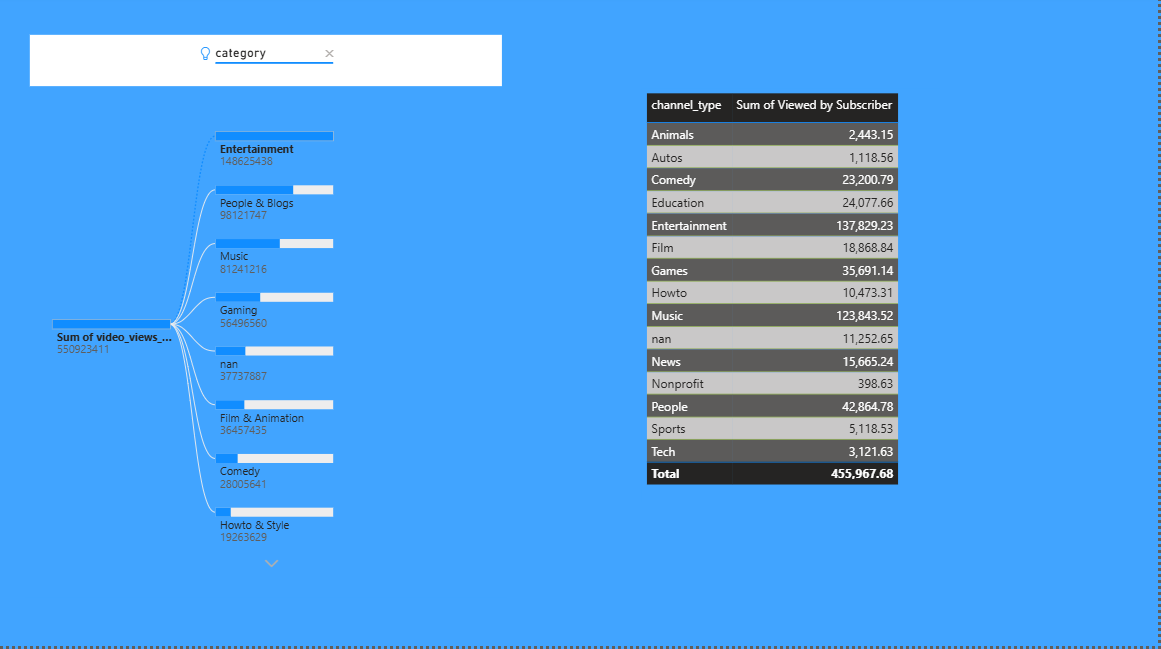

The page's visual inventory and layout, read from the dashboard file:
{"tool":"powerbi","page":{"name":"DETAILED ANALYSIS","canvas":[1280,720],"ordinal":1},"visuals":[{"type":"decompositionTreeVisual","fields":{"Analyze":["Sum(Global YouTube Statistics.video_views_rank)"],"ExplainBy":["Global YouTube Statistics.category"]},"box":[30,40,531.7,626.7],"z":0},{"type":"tableEx","fields":{"Values":["Global YouTube Statistics.channel_type","Sum(Global YouTube Statistics.Viewed by Subscriber)"]},"box":[710,105,330,498.3],"z":1000}]}

Visuals, with their boxes in screenshot pixels (x1, y1, x2, y2), scaled from the page's 1280x720 canvas onto the 1161x649 screenshot:
decompositionTreeVisual - Sum(Global YouTube Statistics.video_views_rank) x Global YouTube Statistics.category: <bbox>27, 36, 509, 601</bbox>
tableEx - Global YouTube Statistics.channel_type x Sum(Global YouTube Statistics.Viewed by Subscriber): <bbox>644, 95, 943, 544</bbox>
